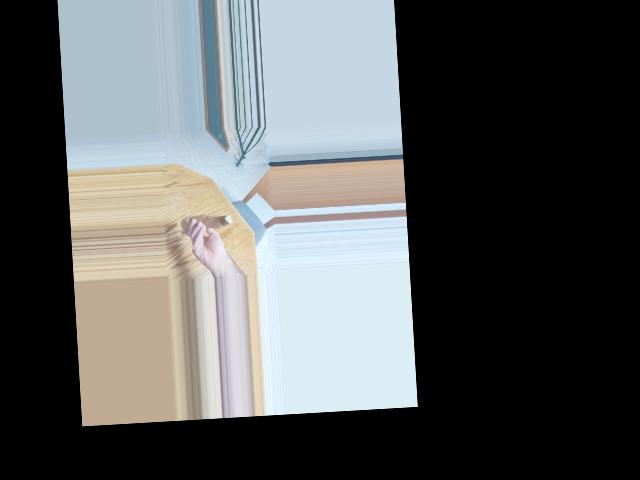sweet_potato: (183, 209, 229, 233)
